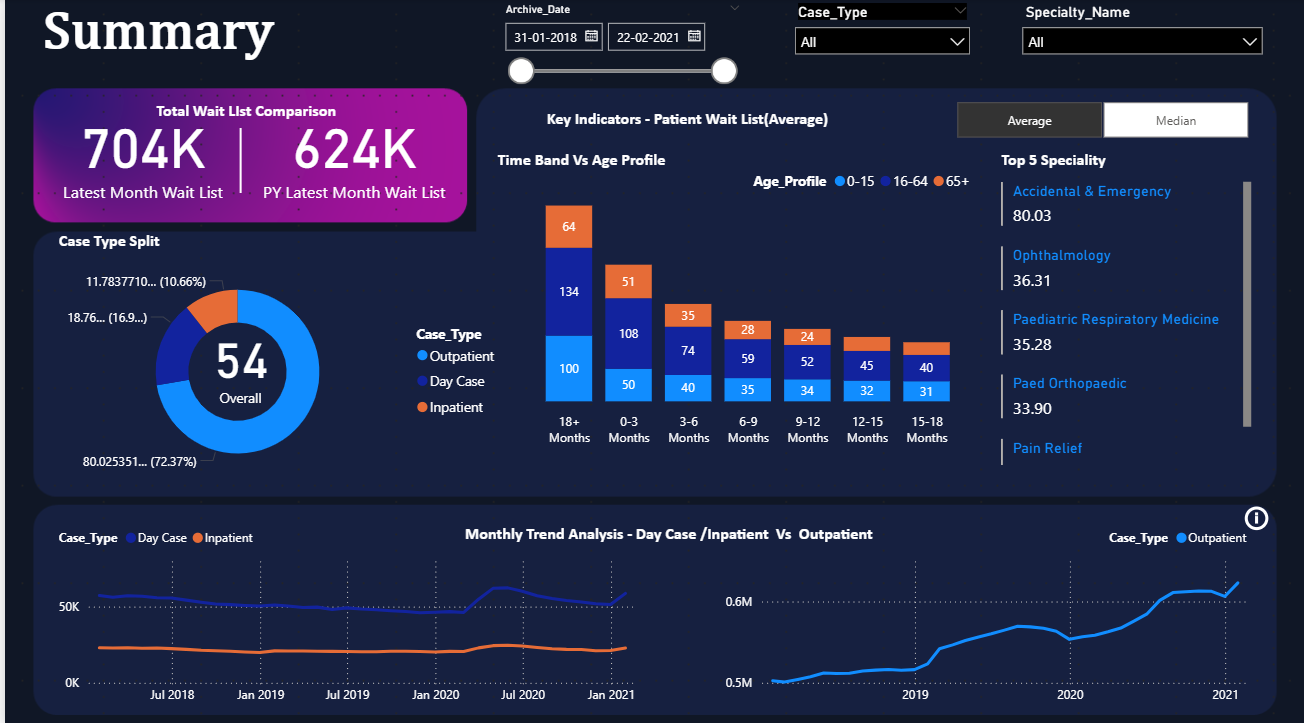

What the dashboard file says about the page in this screenshot:
{"tool":"powerbi","page":{"name":"Summary","canvas":[1280,720],"ordinal":0},"visuals":[{"type":"card","fields":{"Values":["All_Data.Latest Month Wait List"]},"box":[32,96,208,112],"z":0},{"type":"card","fields":{"Values":["All_Data.PY Latest Month Wait List"]},"box":[240,96,208,112],"z":1000},{"type":"slicer","fields":{"Values":["Calculation Method.Calc_Method"]},"box":[912,96,336,48],"z":2000},{"type":"donutChart","fields":{"Y":["All_Data.Avg/Med Wait List"],"Category":["All_Data.Case_Type"]},"box":[48,256,448,224],"z":3000},{"type":"columnChart","fields":{"Y":["All_Data.Avg/Med Wait List"],"Category":["All_Data.Time_Bands"],"Series":["All_Data.Age_Profile"]},"box":[496,160,464,288],"z":4000},{"type":"multiRowCard","fields":{"Values":["All_Data.Avg/Med Wait List","All_Data.Specialty_Name"]},"box":[976,176,256,288],"z":5000},{"type":"lineChart","fields":{"Category":["All_Data.Archive_Date"],"Series":["All_Data.Case_Type"],"Y":["Sum(All_Data.Total)"]},"box":[48,512,592,192],"z":6000},{"type":"lineChart","fields":{"Category":["All_Data.Archive_Date"],"Series":["All_Data.Case_Type"],"Y":["Sum(All_Data.Total)"]},"box":[704,512,528,192],"z":7000},{"type":"slicer","fields":{"Values":["All_Data.Case_Type"]},"box":[768,0,192,64],"z":8000},{"type":"slicer","fields":{"Values":["All_Data.Specialty_Name"]},"box":[992,0,256,64],"z":9000},{"type":"slicer","fields":{"Values":["All_Data.Archive_Date"]},"box":[480,0,256,96],"z":10000},{"type":"textbox","box":[32,0,272,80],"z":11000},{"type":"card","fields":{"Values":["All_Data.Avg/Med Wait List"]},"box":[192,304,80,112],"z":12000},{"type":"shape","box":[128,128,208,64],"z":13000},{"type":"card","fields":{"Values":["All_Data.Dynamic Title"]},"box":[480,96,384,48],"z":14000},{"type":"textbox","box":[480,144,224,32],"z":15000},{"type":"textbox","box":[144,96,192,32],"z":16000},{"type":"textbox","box":[48,224,240,32],"z":17000},{"type":"textbox","box":[976,144,256,32],"z":18000},{"type":"textbox","box":[448,512,416,32],"z":19000},{"type":"actionButton","box":[1216,496,32,32],"z":20000}]}

Visuals, with their boxes in screenshot pixels (x1, y1, x2, y2), scaled from the page's 1280x720 canvas onto the 1304x723 screenshot:
card - All_Data.Latest Month Wait List: bbox=(33, 96, 244, 209)
card - All_Data.PY Latest Month Wait List: bbox=(244, 96, 456, 209)
slicer - Calculation Method.Calc_Method: bbox=(929, 96, 1271, 145)
donutChart - All_Data.Avg/Med Wait List x All_Data.Case_Type: bbox=(49, 257, 505, 482)
columnChart - All_Data.Avg/Med Wait List x All_Data.Time_Bands: bbox=(505, 161, 978, 450)
multiRowCard - All_Data.Avg/Med Wait List x All_Data.Specialty_Name: bbox=(994, 177, 1255, 466)
lineChart - All_Data.Archive_Date x All_Data.Case_Type: bbox=(49, 514, 652, 707)
lineChart - All_Data.Archive_Date x All_Data.Case_Type: bbox=(717, 514, 1255, 707)
slicer - All_Data.Case_Type: bbox=(782, 0, 978, 64)
slicer - All_Data.Specialty_Name: bbox=(1011, 0, 1271, 64)
slicer - All_Data.Archive_Date: bbox=(489, 0, 750, 96)
textbox: bbox=(33, 0, 310, 80)
card - All_Data.Avg/Med Wait List: bbox=(196, 305, 277, 418)
shape: bbox=(130, 129, 342, 193)
card - All_Data.Dynamic Title: bbox=(489, 96, 880, 145)
textbox: bbox=(489, 145, 717, 177)
textbox: bbox=(147, 96, 342, 129)
textbox: bbox=(49, 225, 293, 257)
textbox: bbox=(994, 145, 1255, 177)
textbox: bbox=(456, 514, 880, 546)
actionButton: bbox=(1239, 498, 1271, 530)
